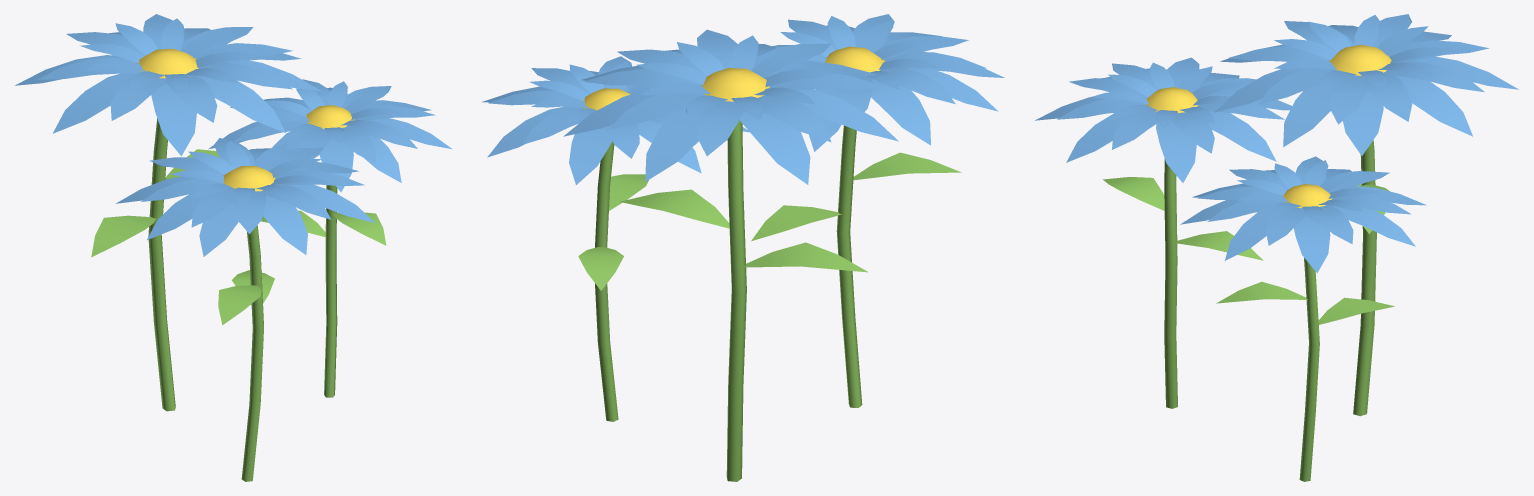
Rendered from flower03_blue.fbx.
3 views of the same model, side by side, from view 1: azimuth 30°, elevation 25°; view 2: azimuth 150°, elevation 25°; view 3: azimuth 270°, elevation 25° (orthographic). The views are drawn at different scales.
Parts seen in each view (by area): view 1: flowers03_blue; view 2: flowers03_blue; view 3: flowers03_blue.
Boxes of the visible parts, box(x1,y1,x2,y2) form: flowers03_blue: box(15, 14, 452, 481); flowers03_blue: box(482, 14, 1004, 481); flowers03_blue: box(1035, 14, 1518, 481).
Size of the model in its own units: 0.5107 by 0.4655 by 0.5643.
